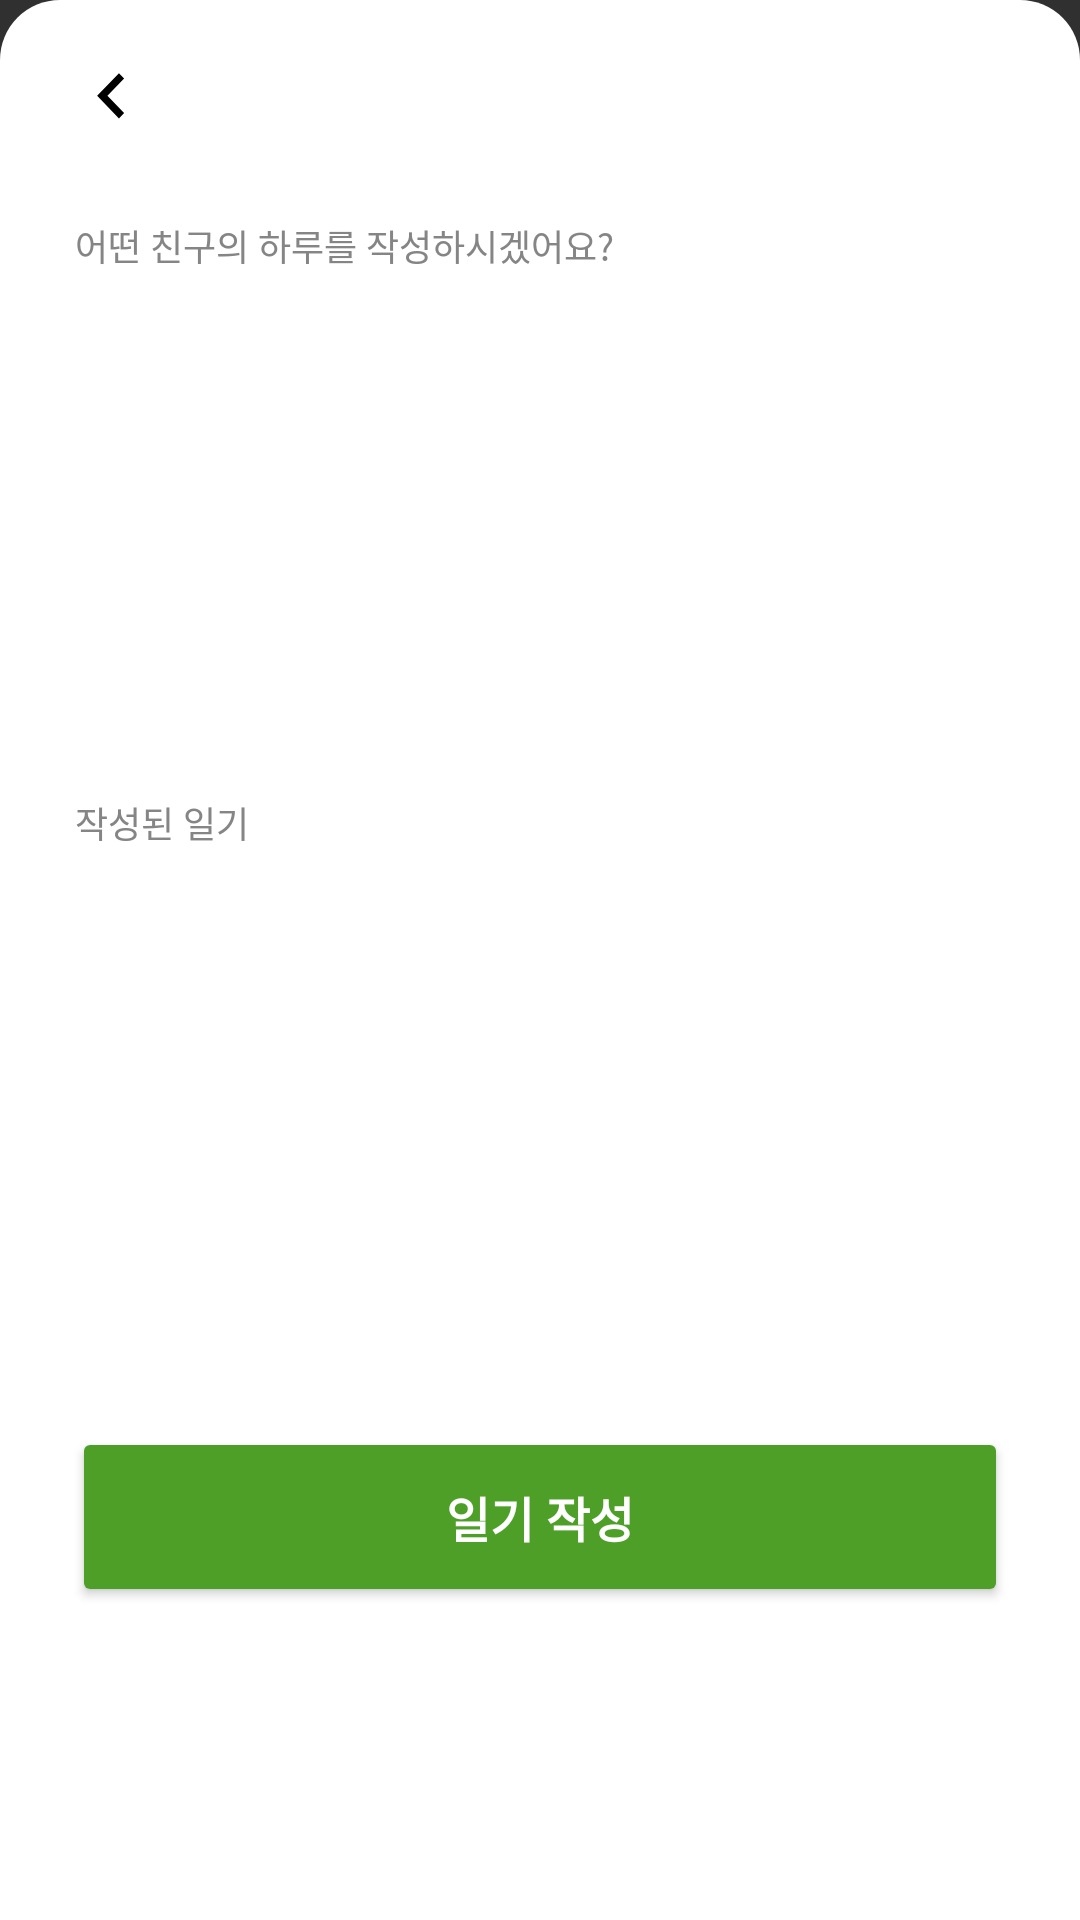

Where icons sit on this 1080px×1920px app screen, as (x1, y1, x2, y2):
previous: (97, 73, 124, 119)
